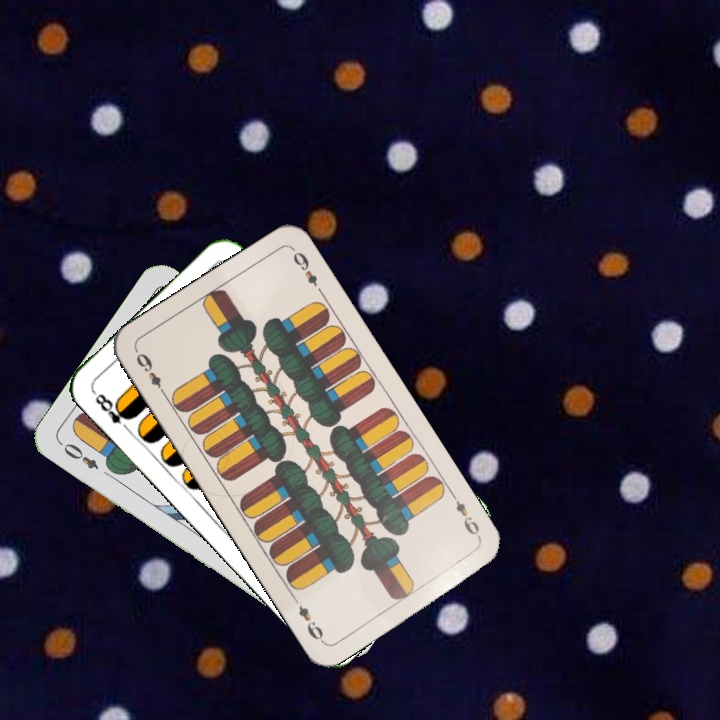E8: (91, 389, 136, 435)
E9: (447, 489, 484, 542), (132, 347, 169, 399)
EO: (59, 438, 102, 472)
